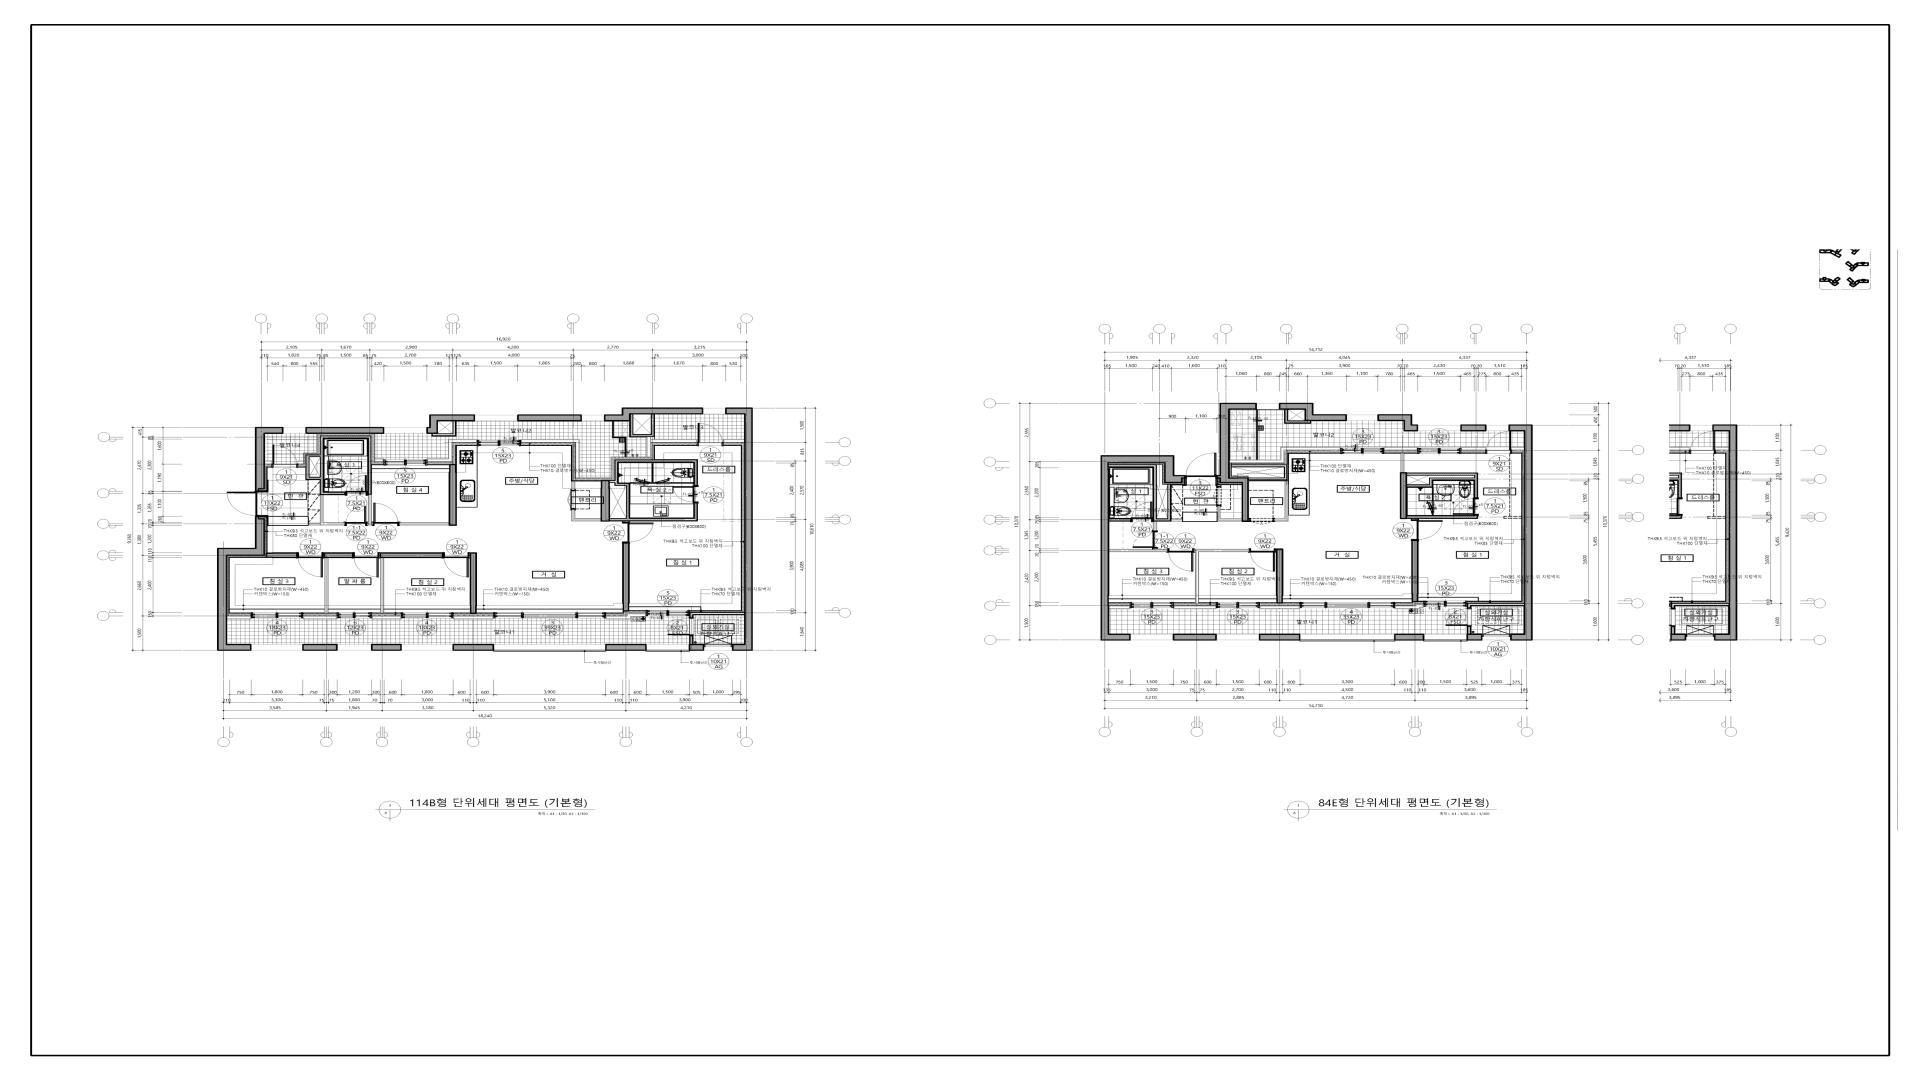door: (1185, 452, 1217, 487), (227, 492, 269, 516), (297, 553, 324, 578), (352, 553, 380, 578), (622, 522, 654, 543), (1411, 520, 1443, 541), (443, 553, 469, 578), (372, 502, 400, 526), (1167, 549, 1195, 572), (1249, 549, 1276, 572), (272, 444, 298, 468), (698, 423, 723, 447), (1486, 431, 1511, 454), (1445, 608, 1472, 626), (667, 617, 694, 636), (1453, 497, 1480, 516), (1130, 501, 1153, 522), (345, 475, 368, 496), (674, 485, 699, 504), (1133, 530, 1158, 549), (345, 506, 368, 526), (567, 491, 576, 509), (1249, 518, 1274, 525)
wall: (1101, 455, 1185, 641), (725, 407, 753, 651), (218, 516, 265, 651), (306, 435, 372, 525), (611, 459, 698, 521), (1509, 425, 1532, 641), (1109, 464, 1183, 530), (1217, 402, 1257, 522), (629, 414, 698, 458), (1195, 549, 1249, 603), (521, 439, 579, 479), (255, 427, 284, 491), (1407, 472, 1478, 497), (1230, 447, 1341, 463), (604, 407, 703, 422), (1279, 404, 1346, 421), (427, 439, 477, 462), (426, 414, 475, 434), (1232, 464, 1287, 480), (1378, 414, 1418, 431), (1274, 481, 1288, 521), (622, 543, 630, 612), (306, 427, 384, 434), (517, 414, 582, 422), (469, 553, 477, 615), (448, 464, 456, 526), (1411, 541, 1419, 601), (601, 481, 611, 522), (1276, 549, 1283, 604), (1217, 506, 1242, 521), (431, 422, 456, 436), (1284, 410, 1311, 423), (571, 509, 600, 521), (380, 553, 443, 558), (452, 644, 495, 651), (605, 644, 647, 651), (1400, 472, 1407, 520), (1466, 603, 1524, 608), (1172, 634, 1217, 641), (690, 612, 744, 617), (302, 644, 338, 651), (1407, 516, 1478, 520), (1259, 634, 1300, 641), (605, 613, 646, 620), (371, 644, 402, 651), (1109, 549, 1167, 553), (324, 558, 328, 613), (1394, 634, 1424, 641), (1460, 425, 1486, 431), (1174, 605, 1216, 609), (1259, 605, 1300, 609), (266, 553, 297, 558), (454, 616, 493, 620), (1395, 604, 1424, 609), (381, 558, 384, 613), (324, 553, 352, 558), (303, 616, 336, 620), (400, 522, 448, 525), (688, 644, 704, 651), (372, 616, 401, 620), (1466, 634, 1482, 641), (227, 616, 251, 620), (1385, 447, 1418, 450), (1109, 605, 1130, 609), (1109, 518, 1130, 522), (723, 439, 744, 443), (1400, 454, 1404, 472), (1461, 447, 1486, 450), (458, 522, 476, 525), (1466, 626, 1472, 634), (571, 481, 575, 491), (1511, 447, 1524, 450), (690, 636, 694, 644), (375, 459, 384, 462), (298, 460, 303, 464), (265, 462, 272, 464), (1217, 485, 1220, 487)
window: (493, 612, 605, 618), (495, 645, 605, 651), (1300, 601, 1395, 608), (1300, 634, 1394, 641), (251, 612, 303, 618), (401, 612, 454, 618), (1130, 601, 1174, 608), (646, 609, 690, 616), (384, 459, 427, 465), (477, 440, 521, 447), (1424, 600, 1466, 607), (1424, 634, 1466, 641), (1418, 425, 1460, 431), (647, 645, 688, 651), (385, 427, 426, 434), (252, 645, 302, 650), (402, 645, 452, 650), (336, 612, 372, 618), (1341, 448, 1385, 454), (1418, 448, 1461, 454), (1216, 603, 1259, 608), (1130, 634, 1172, 640), (1217, 634, 1259, 640), (475, 415, 517, 421), (704, 644, 732, 650), (338, 645, 371, 650), (1346, 415, 1377, 421), (1257, 404, 1279, 410), (1486, 425, 1509, 431), (703, 407, 725, 414), (284, 427, 306, 434), (1482, 634, 1510, 640), (582, 415, 604, 421)
